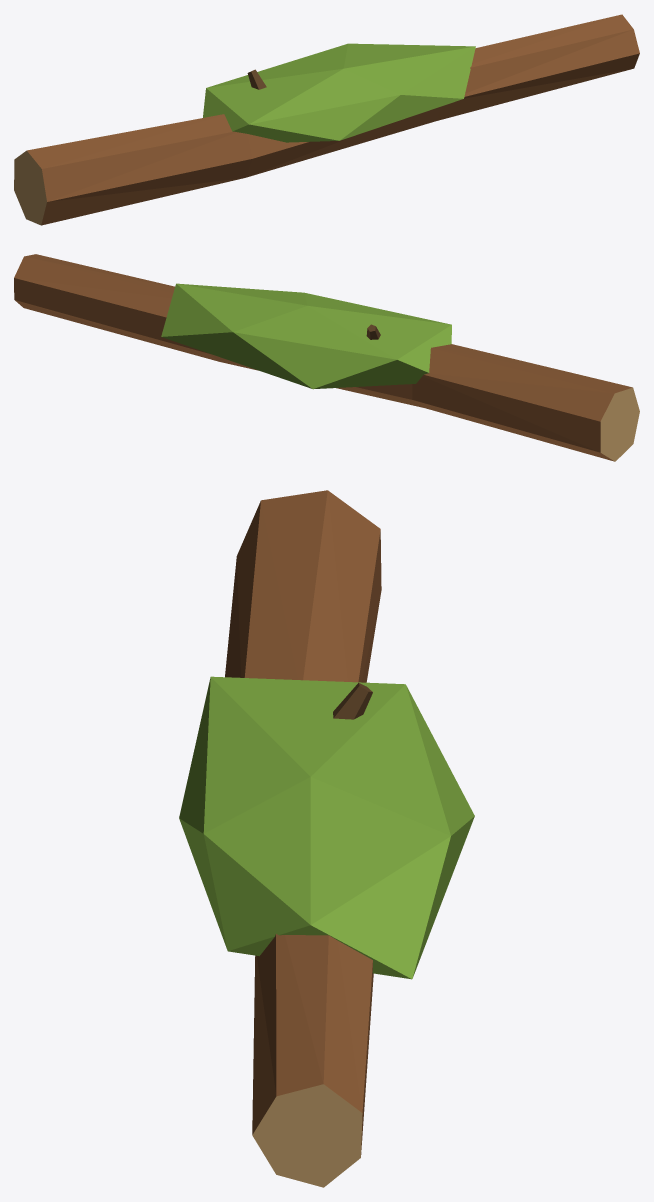
Rendered from HS_LP_Log_Moss_02.fbx.
3 renders of one model, top to bottom at view 1: azimuth 30°, elevation 25°; view 2: azimuth 150°, elevation 25°; view 3: azimuth 270°, elevation 25°, orthographic. The views are drawn at different scales.
Parts seen in each view (by area): view 1: HS_LP_Log_Moss_02; view 2: HS_LP_Log_Moss_02; view 3: HS_LP_Log_Moss_02.
Part boxes in pixels (x1=…): HS_LP_Log_Moss_02: x1=14, y1=14, x2=639, y2=225; HS_LP_Log_Moss_02: x1=14, y1=254, x2=639, y2=461; HS_LP_Log_Moss_02: x1=179, y1=490, x2=474, y2=1187.
Bounding box in the file's own units: 277 × 38.08 × 59.68.
